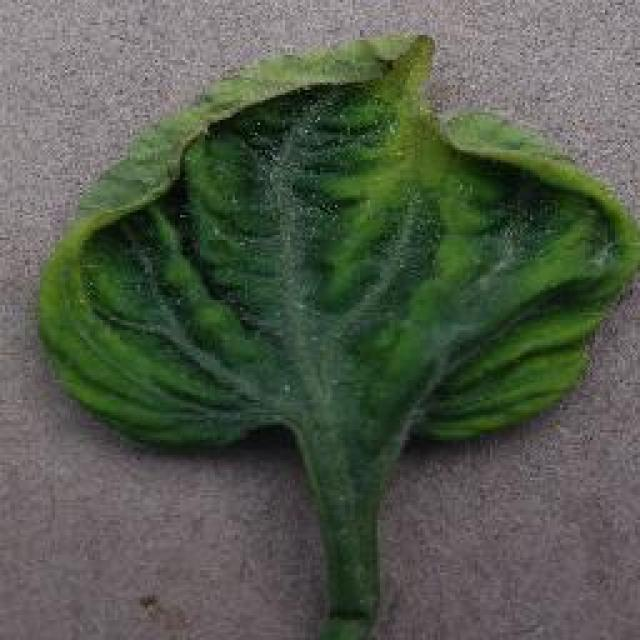Tomato yellow virus leaf: (37, 32, 640, 456)
